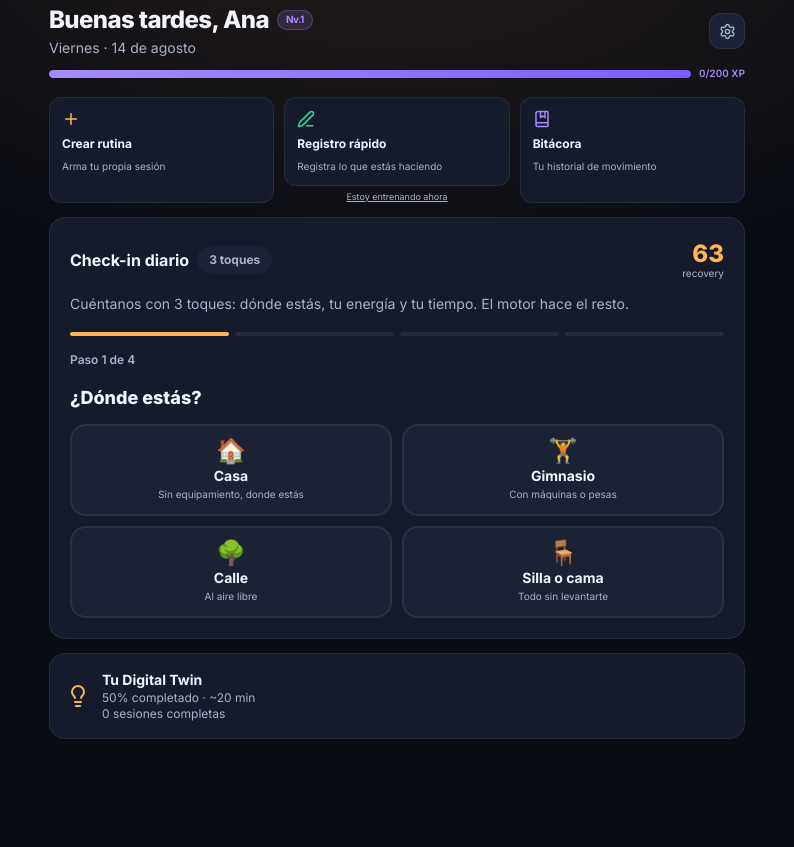
Test case: Full Flow Integration › Phase 2: Check-in and Plan › cabeza Caos nunca recibe HIIT: el motor propone recarga (seguridad emocional)
Check: the text "Check-in diario" is shown, box [70,248,189,272]
// Tap 1: ubicación → Casa
Step 1. Click the button "🏠 Casa Sin equipamiento, donde estás" → [231, 470], box [70,424,392,516]
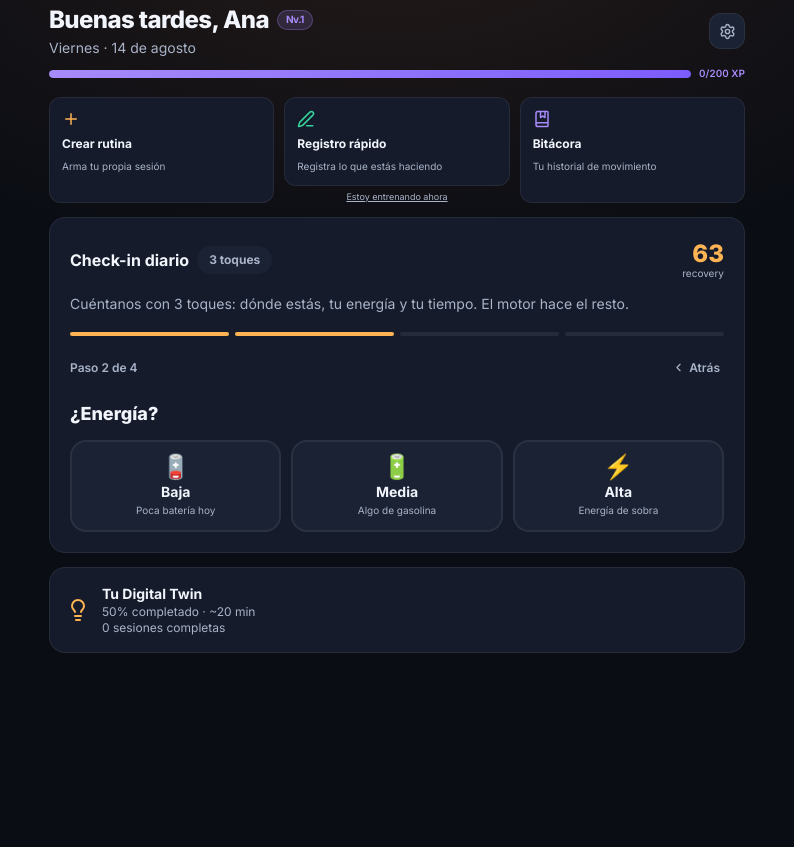
// Tap 2: energía → Baja
Step 2. Click the button "🪫 Baja Poca batería hoy" → [176, 486], box [70,440,281,532]
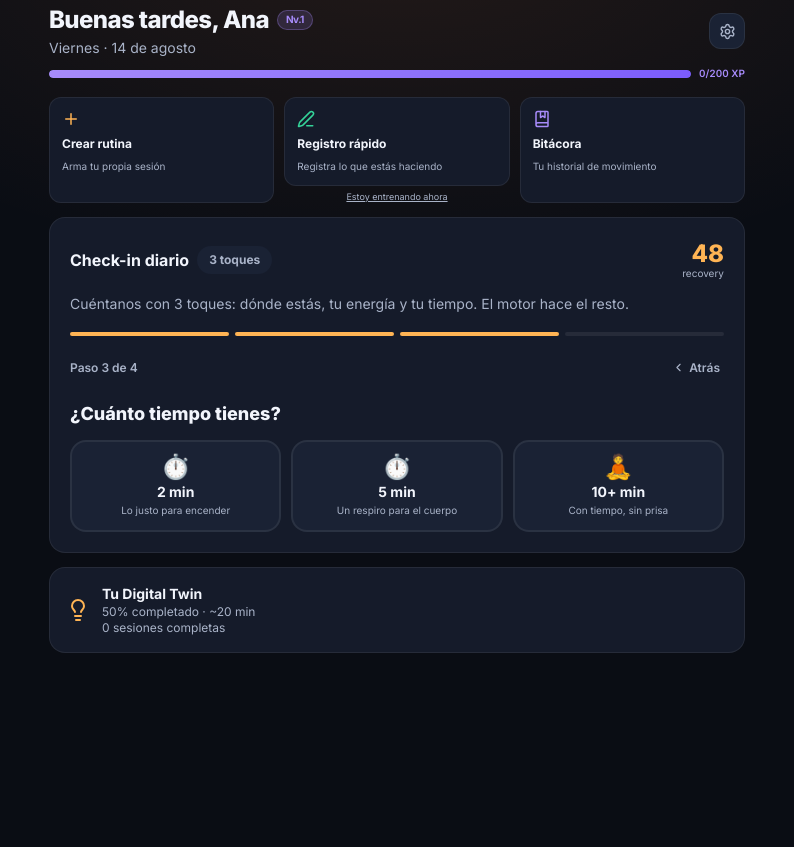
// Tap 3: tiempo → 2 min
Step 3. Click the button "⏱️ 2 min Lo justo para encender" → [176, 486], box [70,440,281,532]
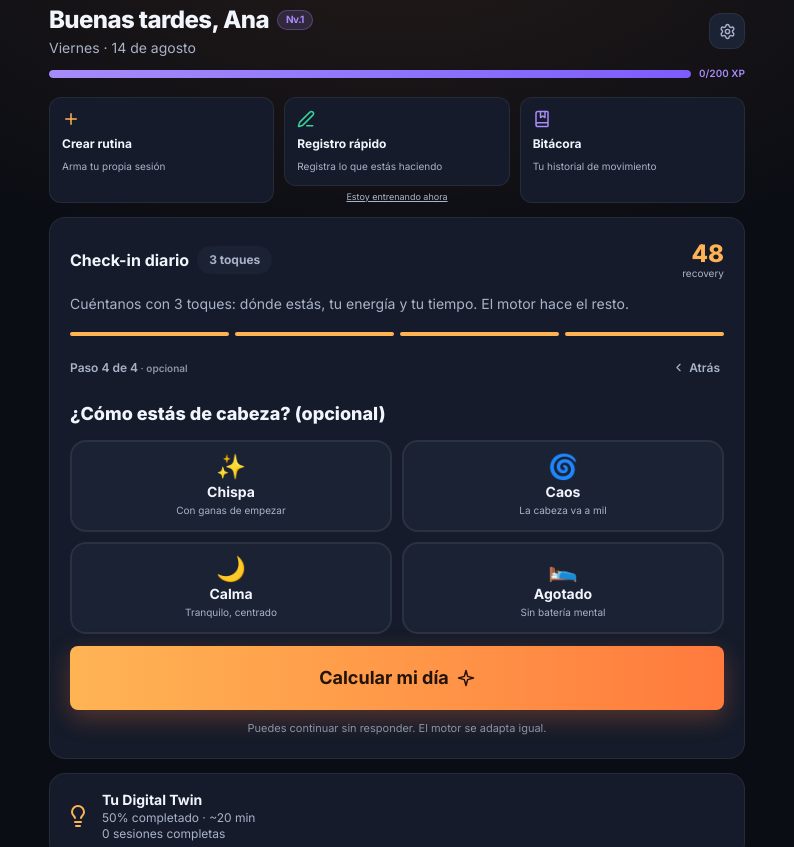
// 4ª tap: cabeza → Caos → no HIIT, el motor deduce modo Caos → recarga
Step 4. Click the button "🌀 Caos La cabeza va a mil" → [563, 486], box [402,440,724,532]
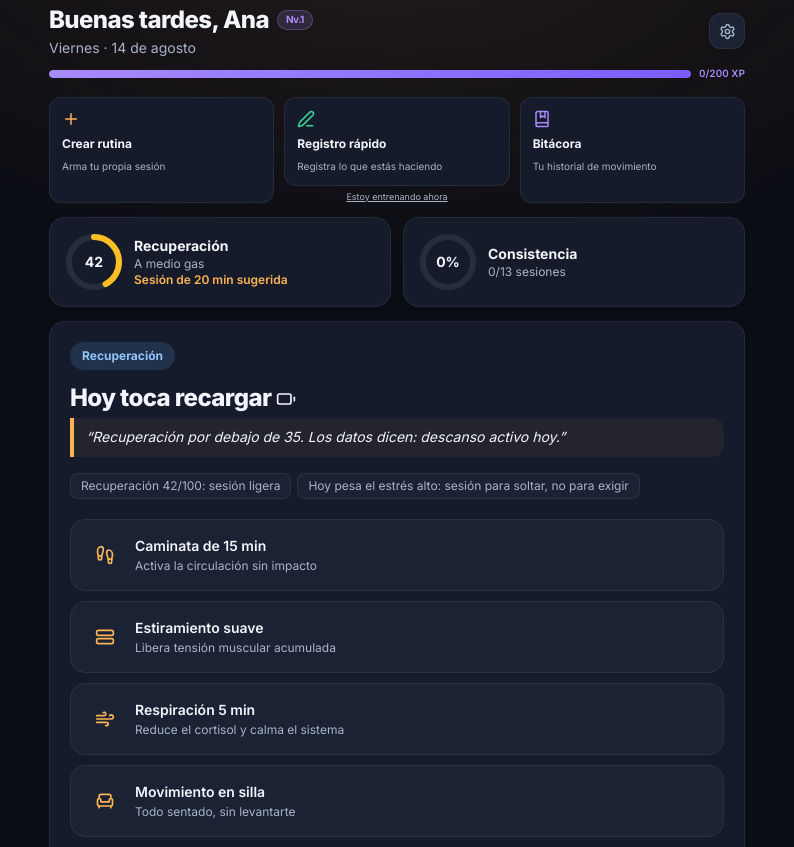
Check: the heading "Hoy toca recargar" is shown, box [70,383,296,412]
Check: the text "Respiración 5 min" is shown, box [135,701,255,718]
